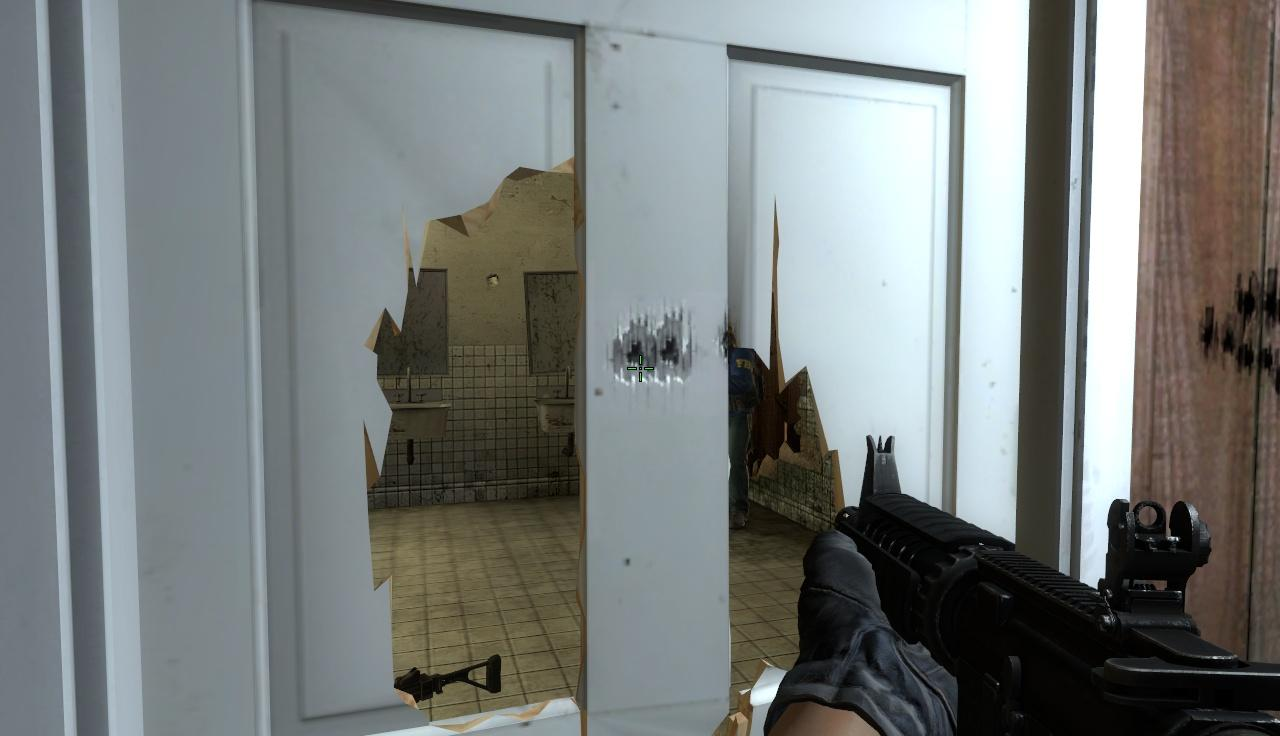ct: (727, 346, 756, 527)
rifle: (823, 430, 1280, 736)
